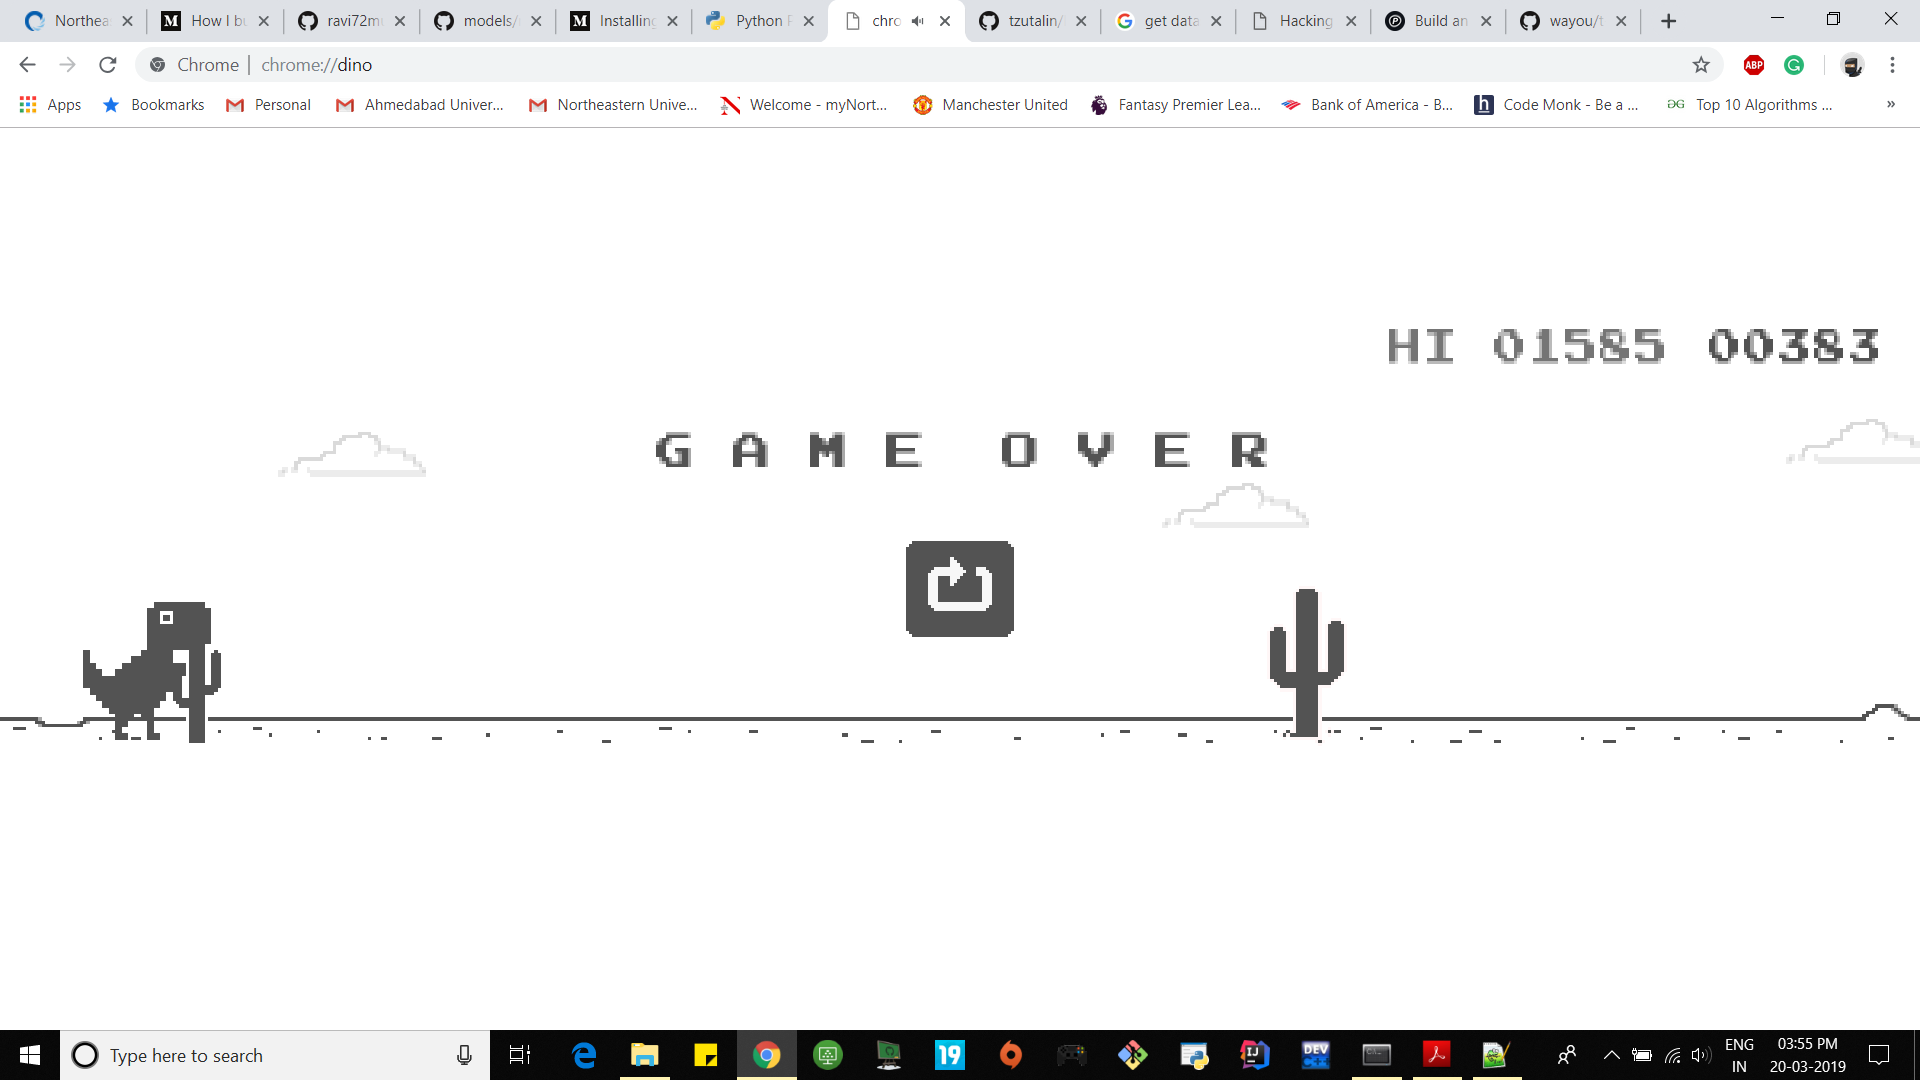cactus-1: (1270, 587, 1346, 735)
cactus-small: (173, 641, 220, 741)
dino: (83, 601, 208, 741)
gameover: (905, 541, 1014, 636)
